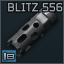BLITZ 5.56x45 flash hider: (0, 0, 64, 64)
